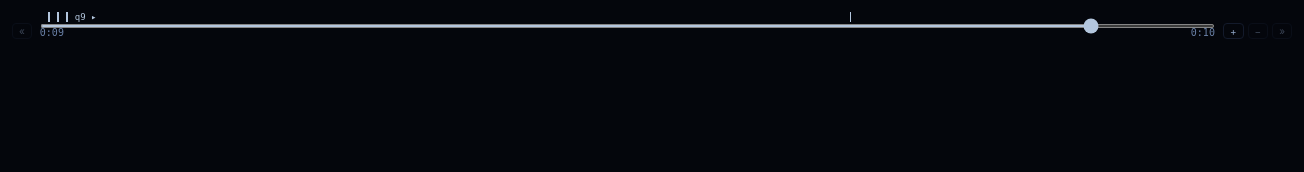
Test: TideDock — zoom-out and window-shift affordances (ruling 10) › zooming in enables zoom-out and (when off-centre) a shift direction
Click the button named "Zoom in".
click(1233, 31)  # box x1=1223 y1=23 x2=1244 y2=39
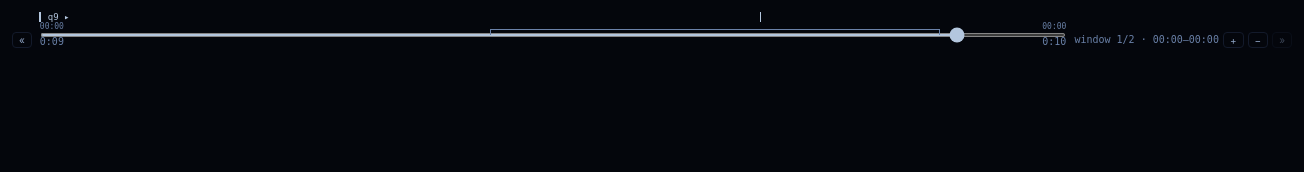
Expected: the button named "Shift window later" is disabled, x1=1272 y1=32 x2=1292 y2=48
Expected: the button named "Zoom out" is enabled, x1=1248 y1=32 x2=1268 y2=48
Expected: the button named "Shift window earlier" is enabled, x1=12 y1=32 x2=32 y2=48
